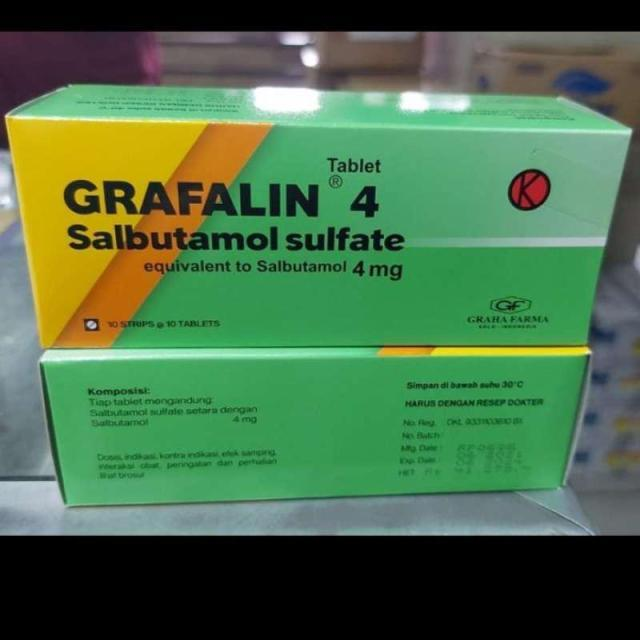drug-name: (59, 176, 383, 218)
